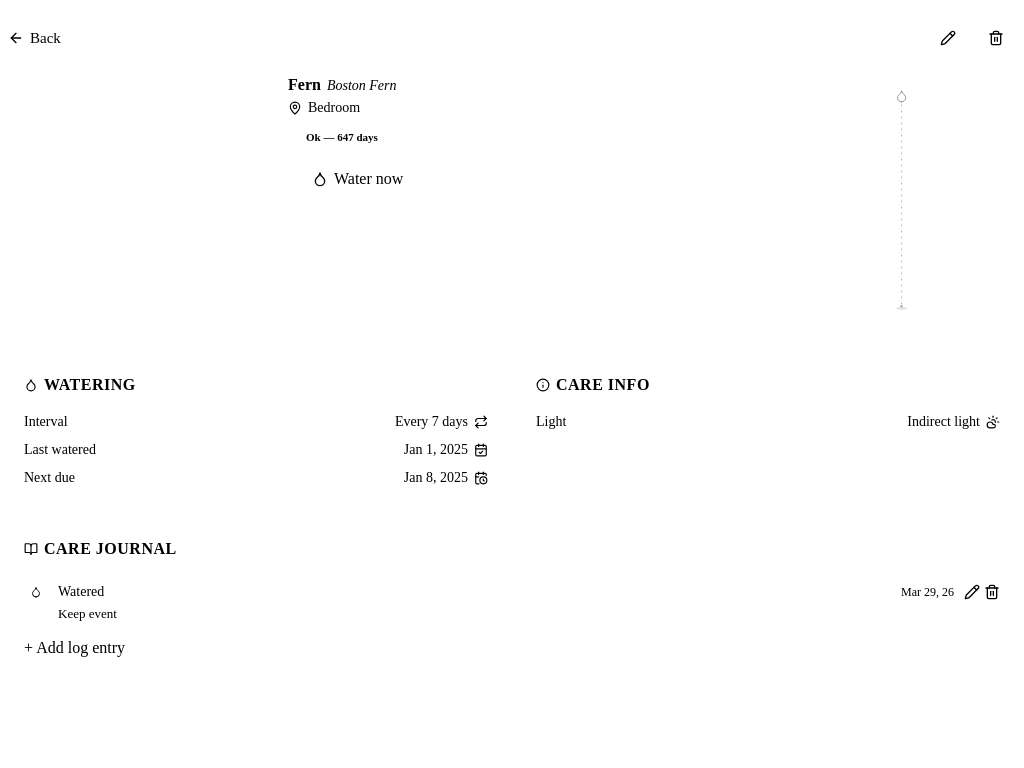
Test: care timeline integration › handles delayed successful Water now reconciliation failure (plant) as care-load feedback, not a water failure
expect the text "Keep event" is shown: met, box [58,606,117,621]
Click the button "Water now" at (358,179), box [288,159,427,198]
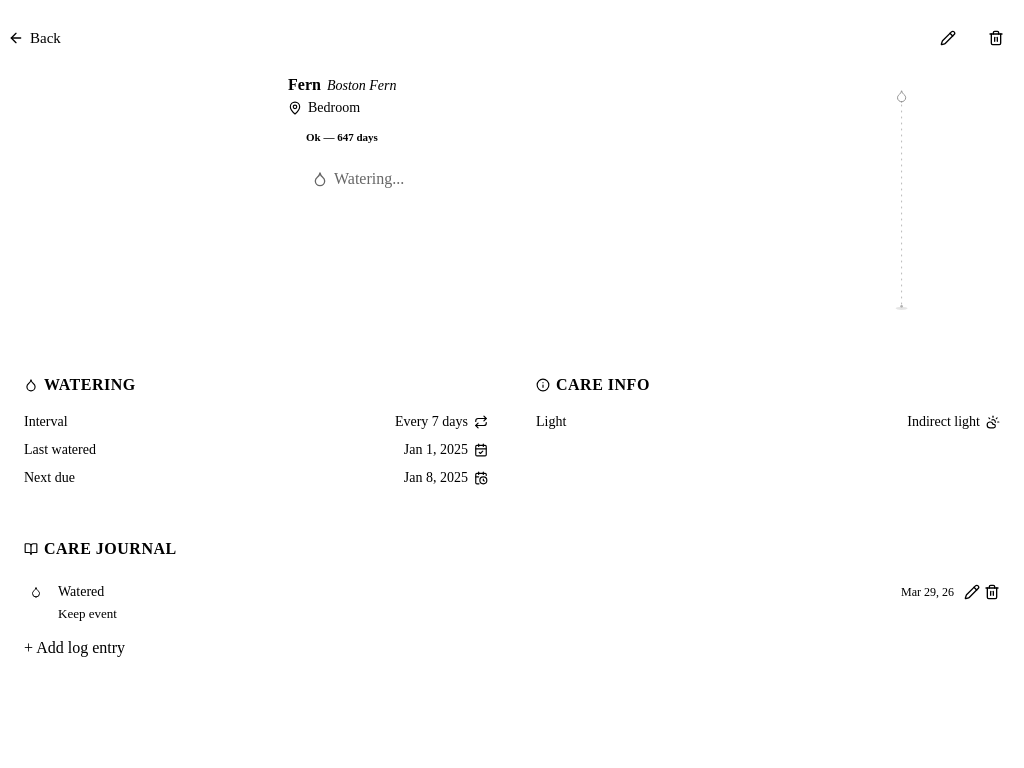
Click the button named "Delete log entry" at (992,592), box [984,584,1000,600]
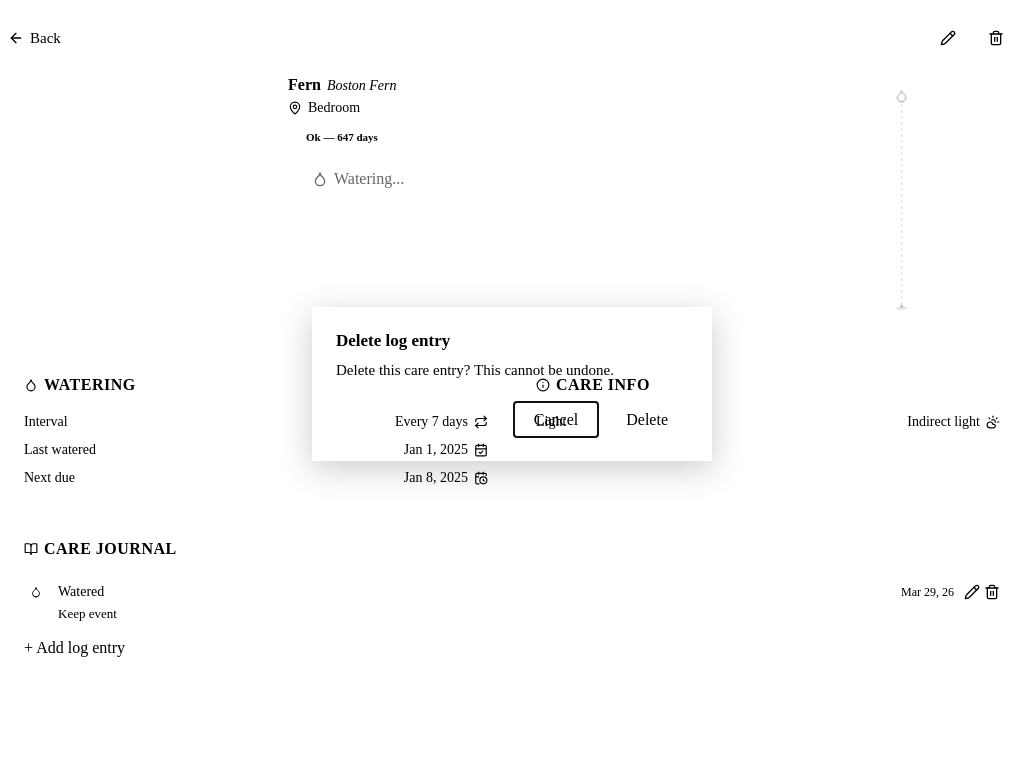
Click the button "Delete" at (647,419), box [606,402,688,437]
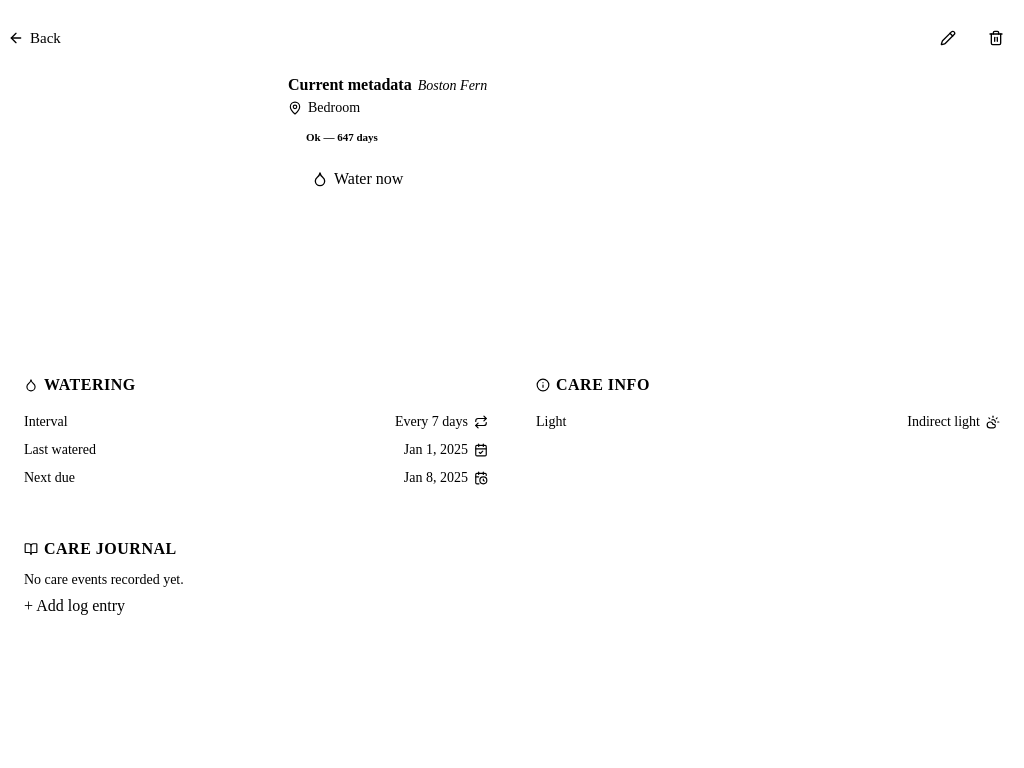
expect the heading "Current metadata" is shown: met, box [288,76,412,94]
expect the button "Water now" is enabled: met, box [288,159,427,198]
